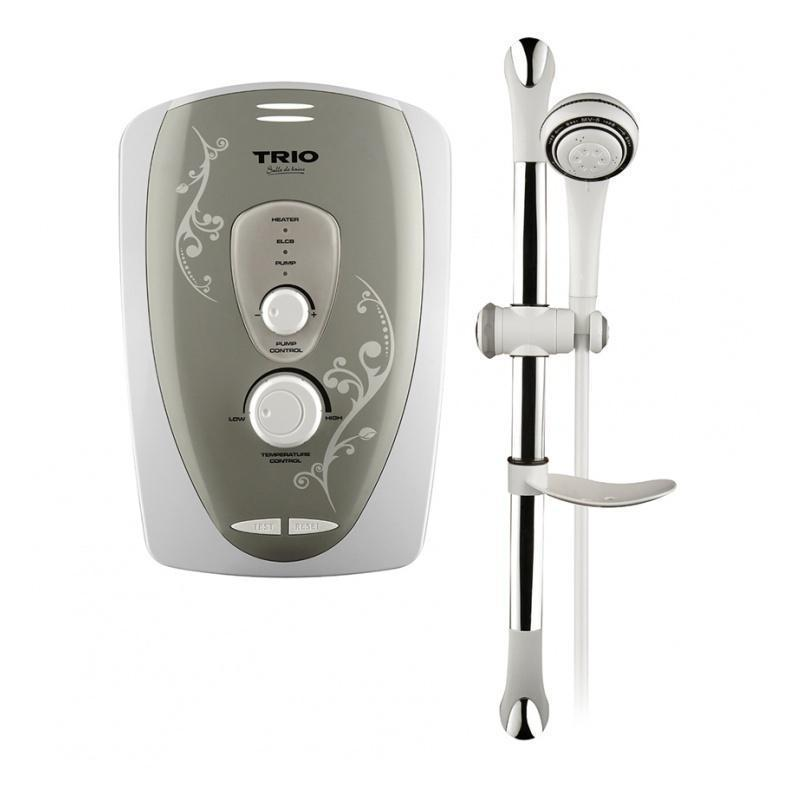Ducha: (109, 3, 687, 739)
